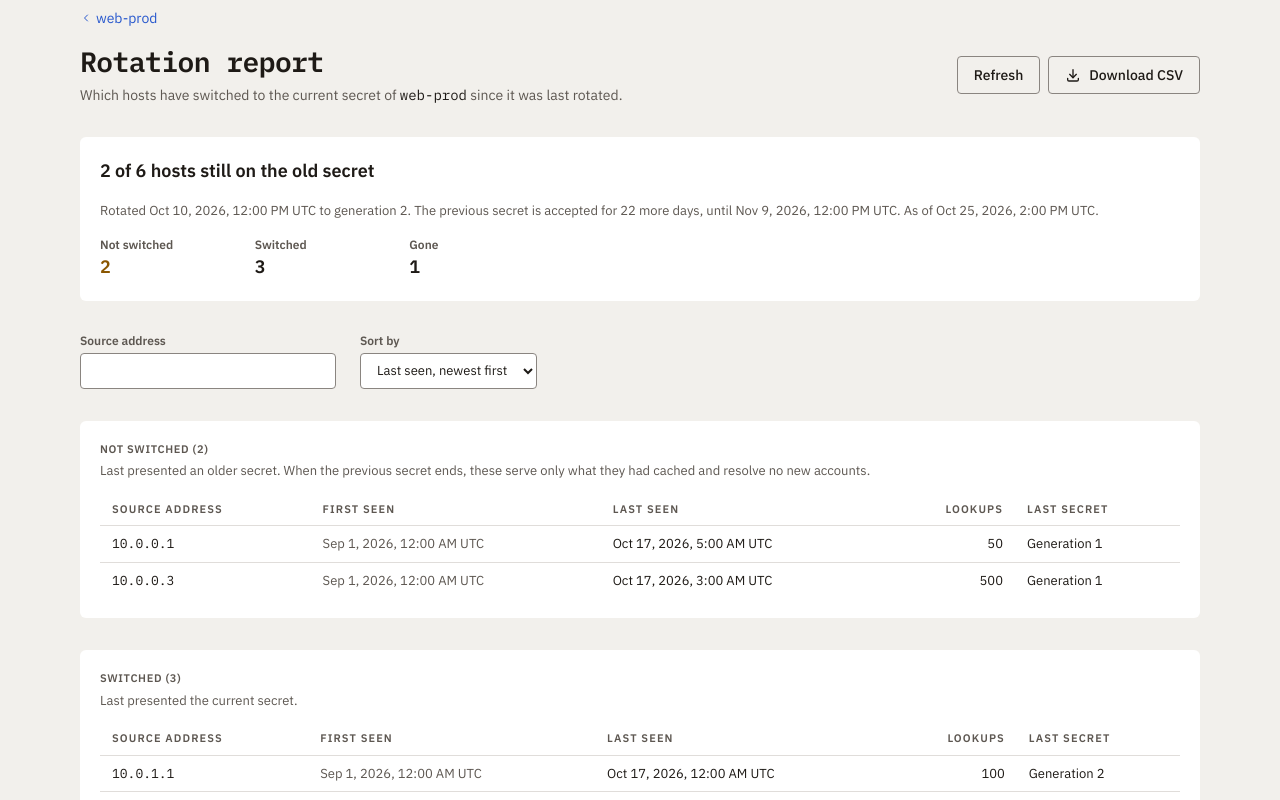
Test: Rotation report › refresh › should show the newer count when Refresh is pressed
The image size is (1280, 800).
Click the button with test id "rotation-refresh". click: (998, 74)
box: [957, 56, 1040, 94]
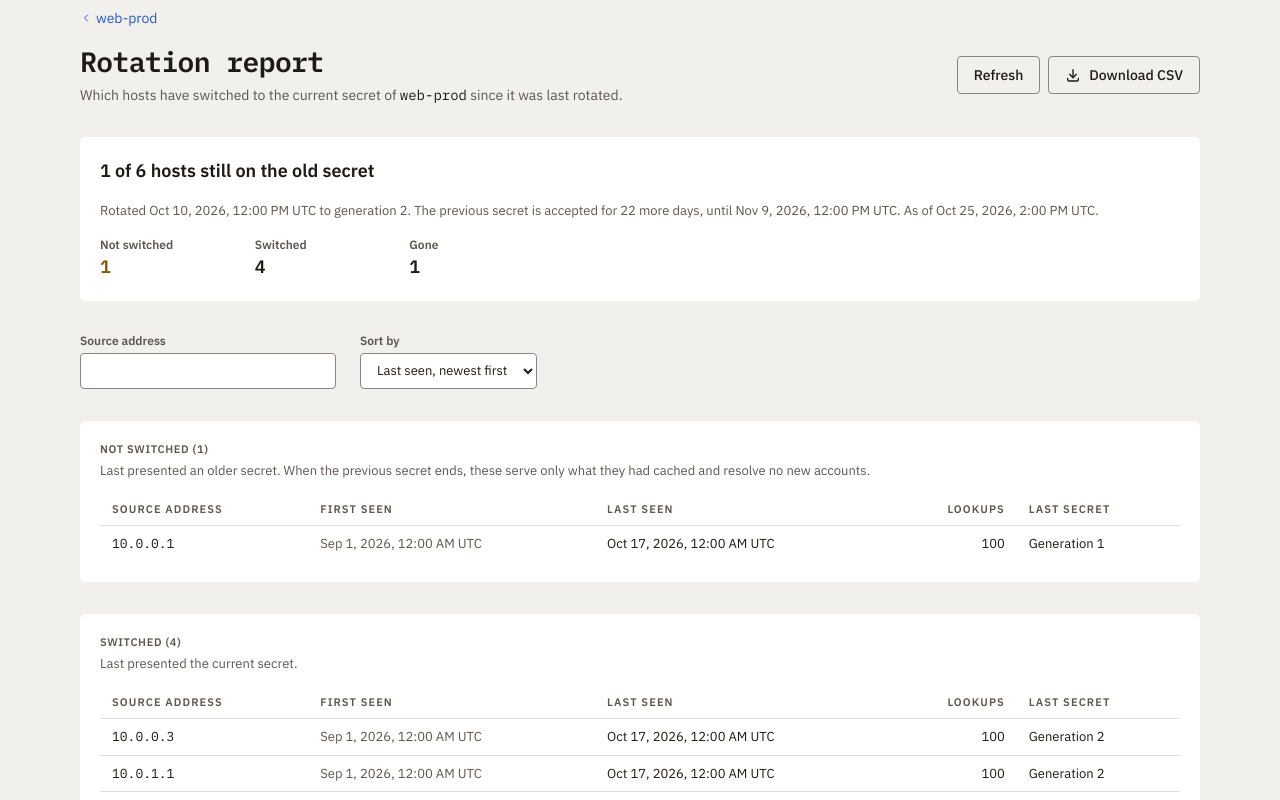
Expected: the text with test id "rotation-headline" reads "1 of 6 hosts still on the old secret", [100, 159, 374, 182]
